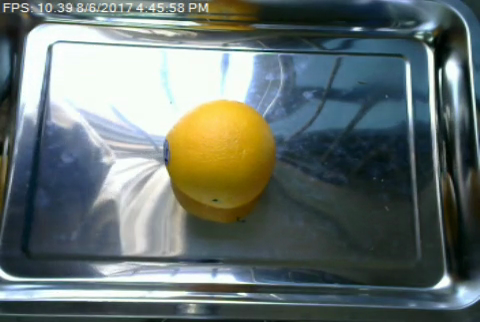Orange: (163, 101, 276, 210)
